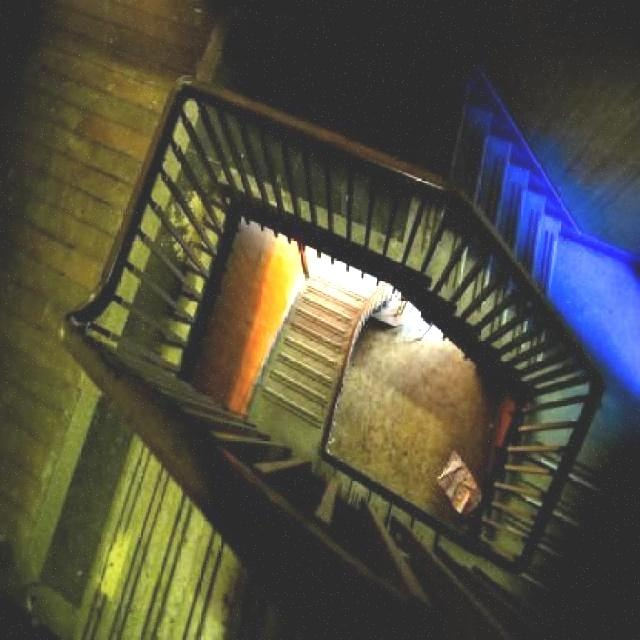stair: (403, 63, 563, 400), (72, 431, 314, 640), (254, 257, 403, 441)
